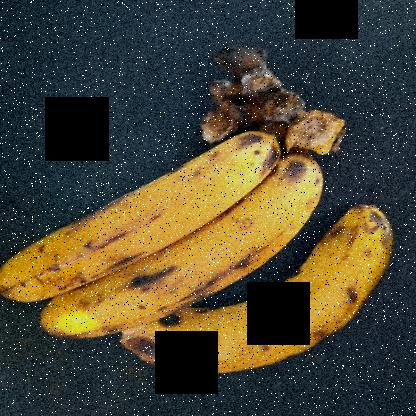overripe: (1, 134, 274, 305), (54, 168, 318, 344), (135, 213, 392, 382)
